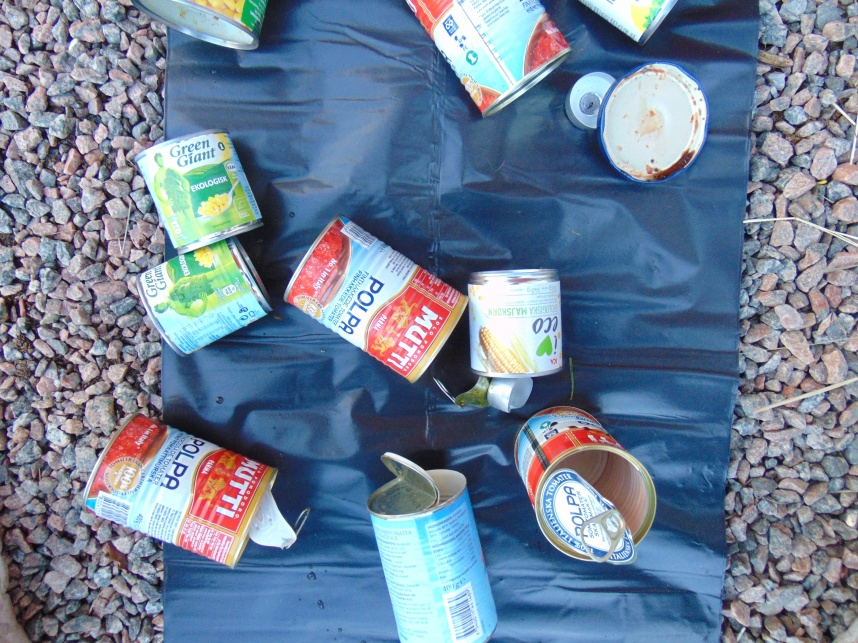metal: (596, 62, 706, 186), (565, 72, 612, 132), (433, 378, 492, 410), (482, 378, 534, 414)
metal_can: (77, 411, 277, 576), (281, 215, 466, 388), (369, 462, 498, 643), (515, 404, 658, 566), (403, 1, 574, 121), (135, 122, 263, 251), (135, 237, 271, 356), (466, 264, 564, 378), (127, 1, 267, 51), (571, 1, 684, 42)
